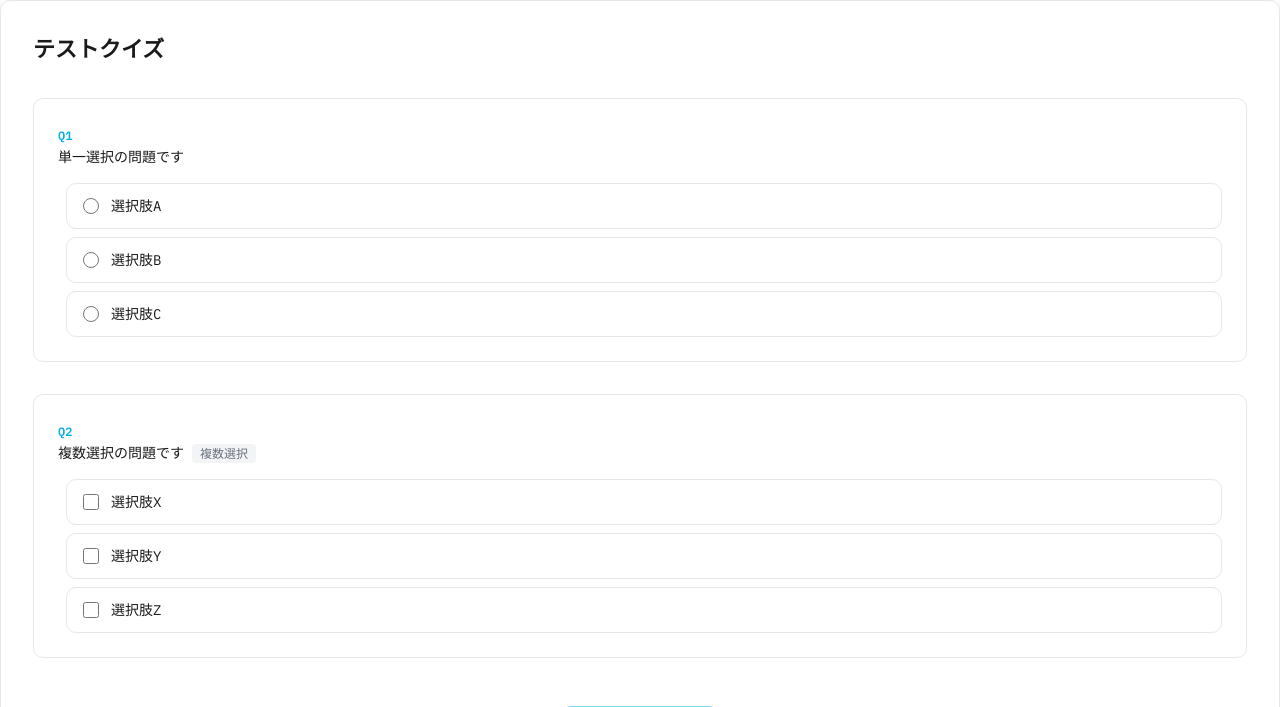
Test: QuizClient › 結果フェーズ (graded) › 送信後に解説が表示される
The image size is (1280, 707).
Step 1. Click the radio button labelled "選択肢B" → (91, 260), box top-left (83, 252), bottom-right (99, 268)
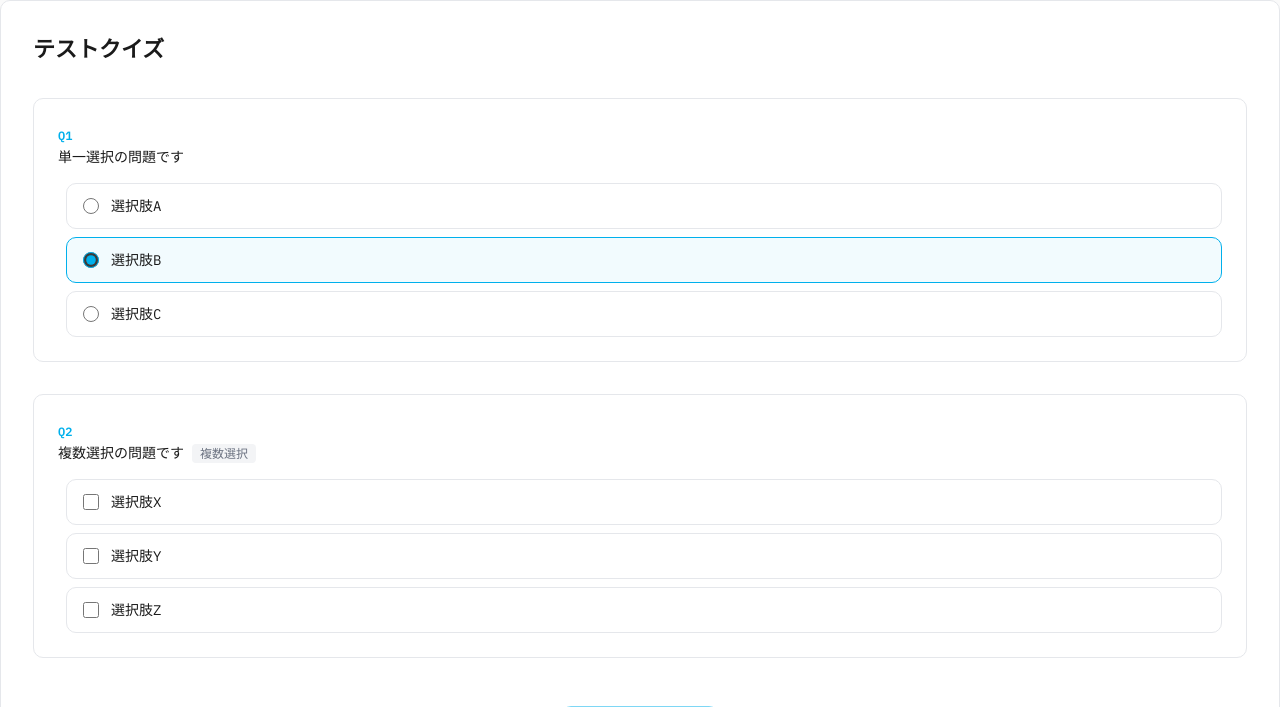
Step 2. Click the checkbox labelled "選択肢X" → (91, 502), box top-left (83, 494), bottom-right (99, 510)
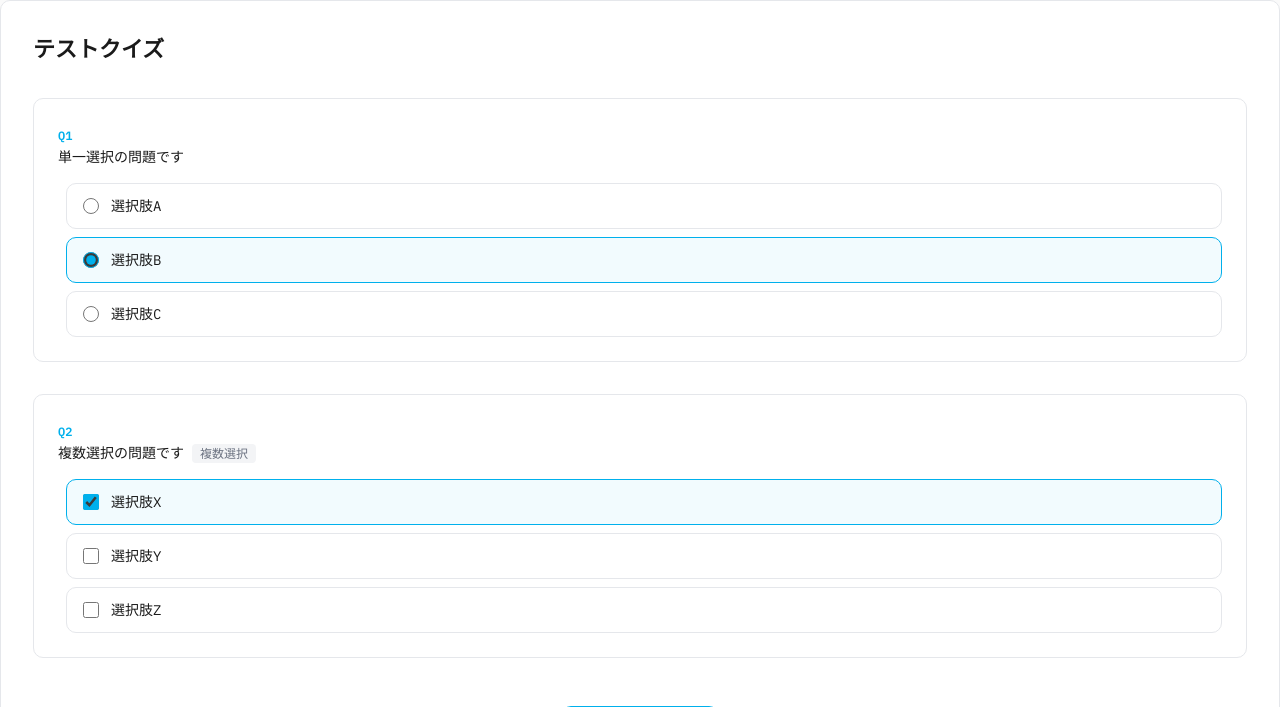
Step 3. Click the checkbox labelled "選択肢Z" → (91, 610), box top-left (83, 602), bottom-right (99, 618)
(page scrolled)
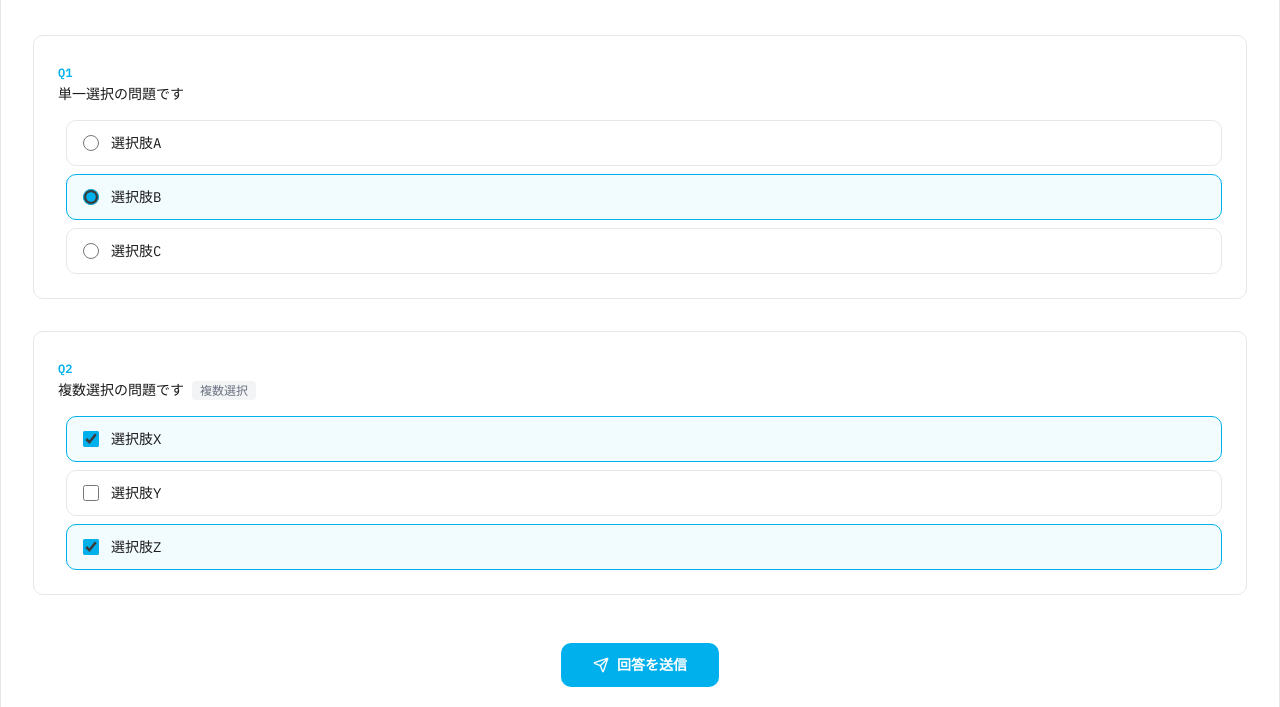
Step 4. Click the button "回答を送信" → (640, 665), box top-left (561, 643), bottom-right (719, 687)
(page scrolled)
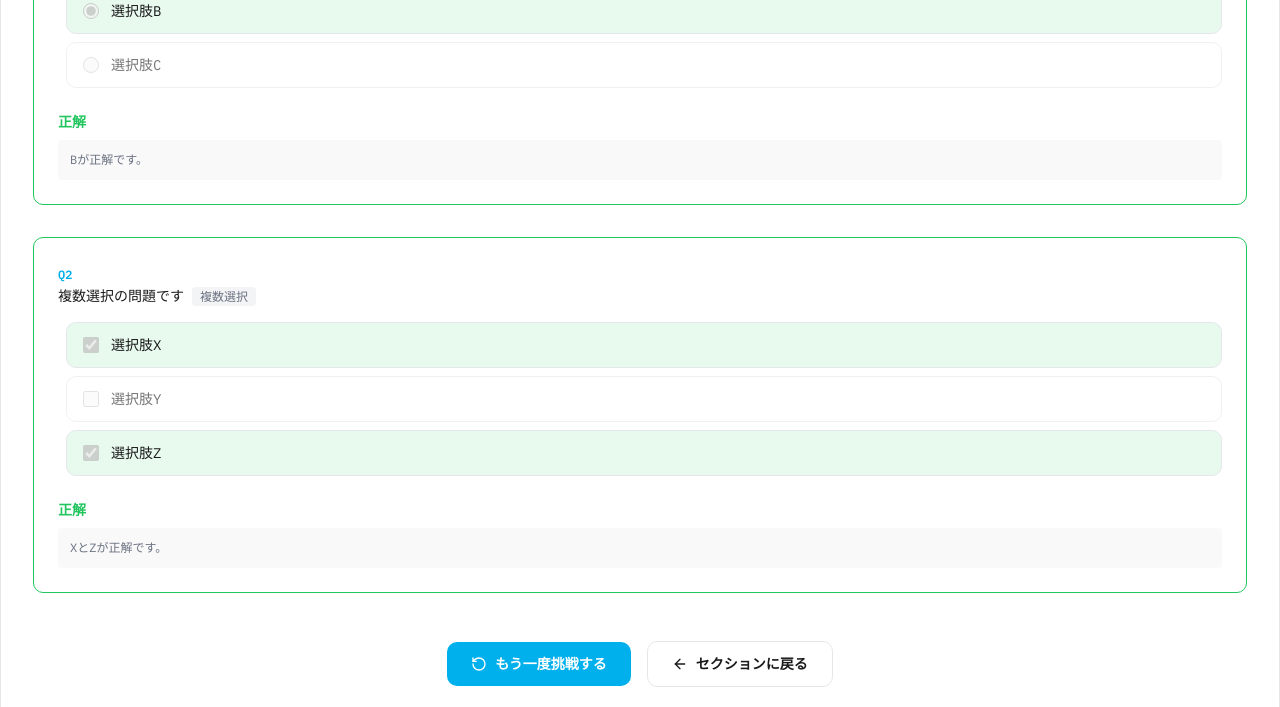
Expected: the text "Bが正解です。" is shown, top-left (70, 152), bottom-right (148, 167)
Expected: the text "XとZが正解です。" is shown, top-left (70, 540), bottom-right (167, 555)
